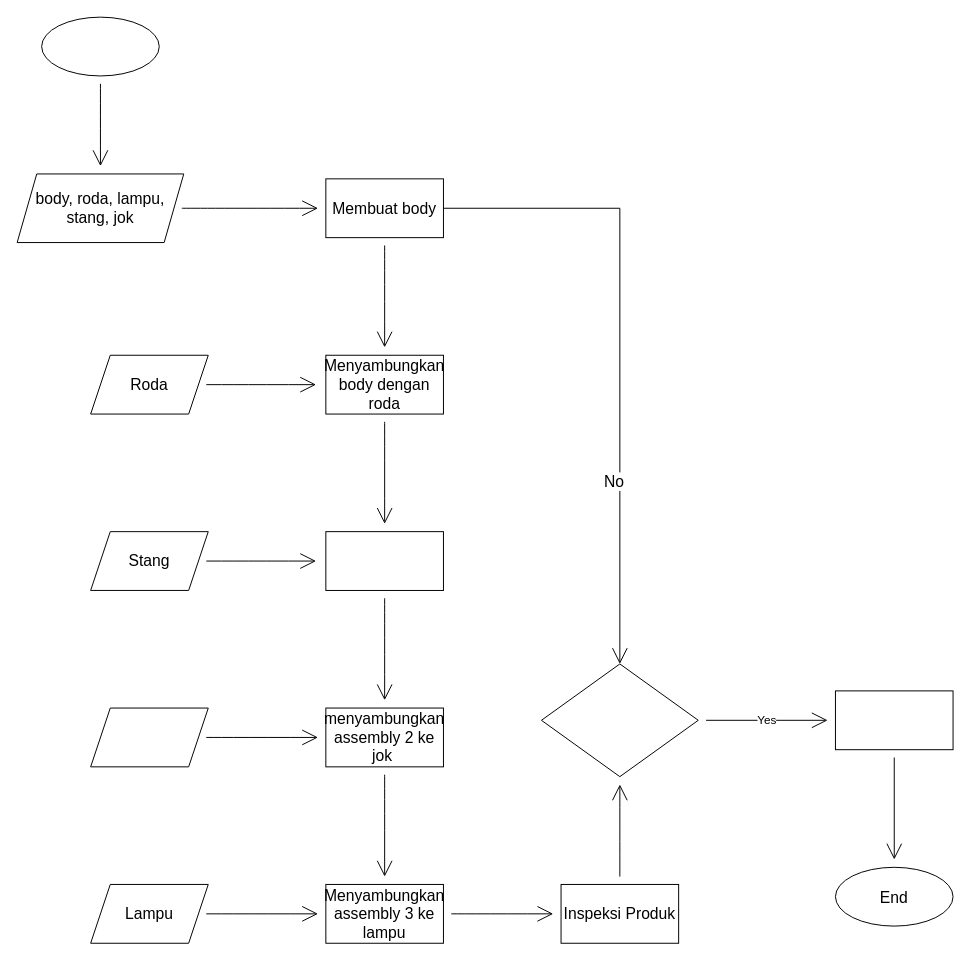
Some shapes in this 970 by 960 pixel diagram are drawn without their labels. Here are the shapes that lost their labels. From the top down, the box of each, then its label:
(41, 16, 159, 76): start
(325, 531, 443, 590): Menyambungkan assembly 1 ke stang
(90, 707, 208, 767): jok
(540, 663, 698, 777): sesuai dengan permintaan
(834, 690, 953, 750): Masuk kedalam inventory
